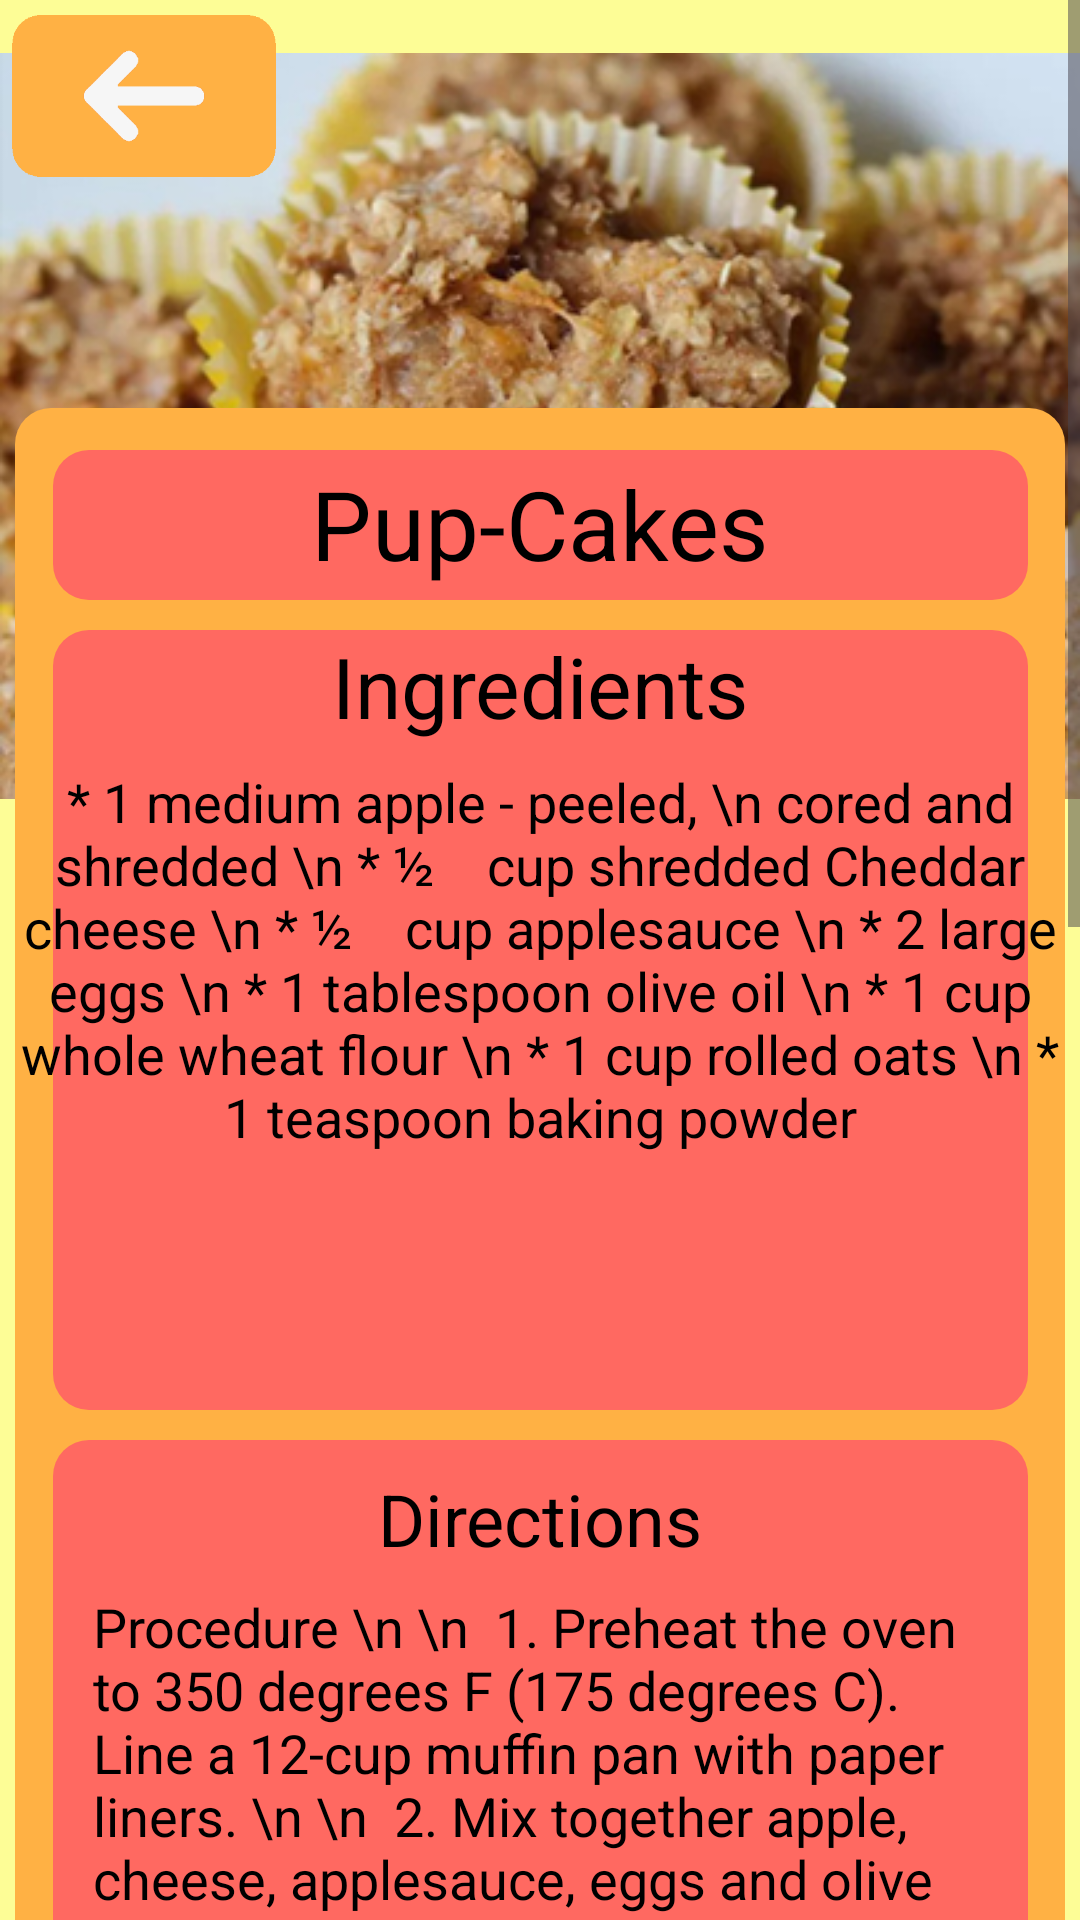

Where to tap for icons on this 1080w x 1920h app screen, as [x,y]:
backred: [144,96]
